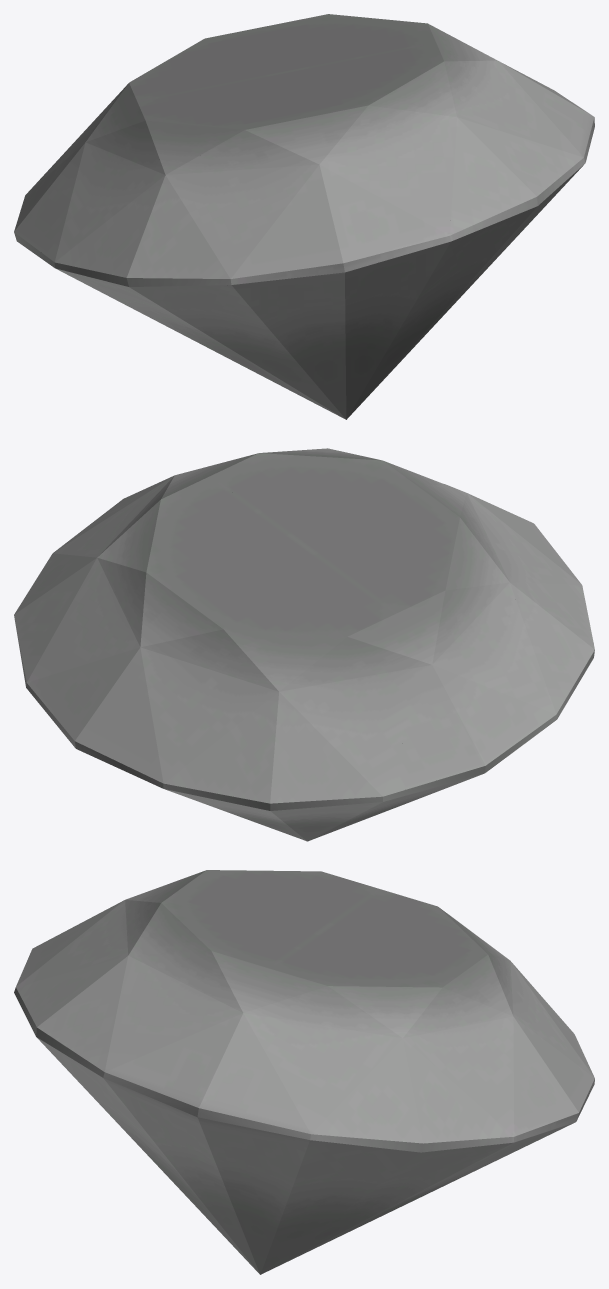
Rendered from Emerald.fbx.
3 renders of one model, top to bottom at view 1: azimuth 30°, elevation 25°; view 2: azimuth 150°, elevation 25°; view 3: azimuth 270°, elevation 25°, orthographic.
Parts seen in each view (by area): view 1: stu_obj_emerald; view 2: stu_obj_emerald; view 3: stu_obj_emerald.
Boxes of the visible parts, x1,y1,x2,y2 form: stu_obj_emerald: (14,14,594,419); stu_obj_emerald: (14,448,594,841); stu_obj_emerald: (14,870,594,1274).
Bounding box in the file's own units: 36.8 × 24.87 × 36.37.
